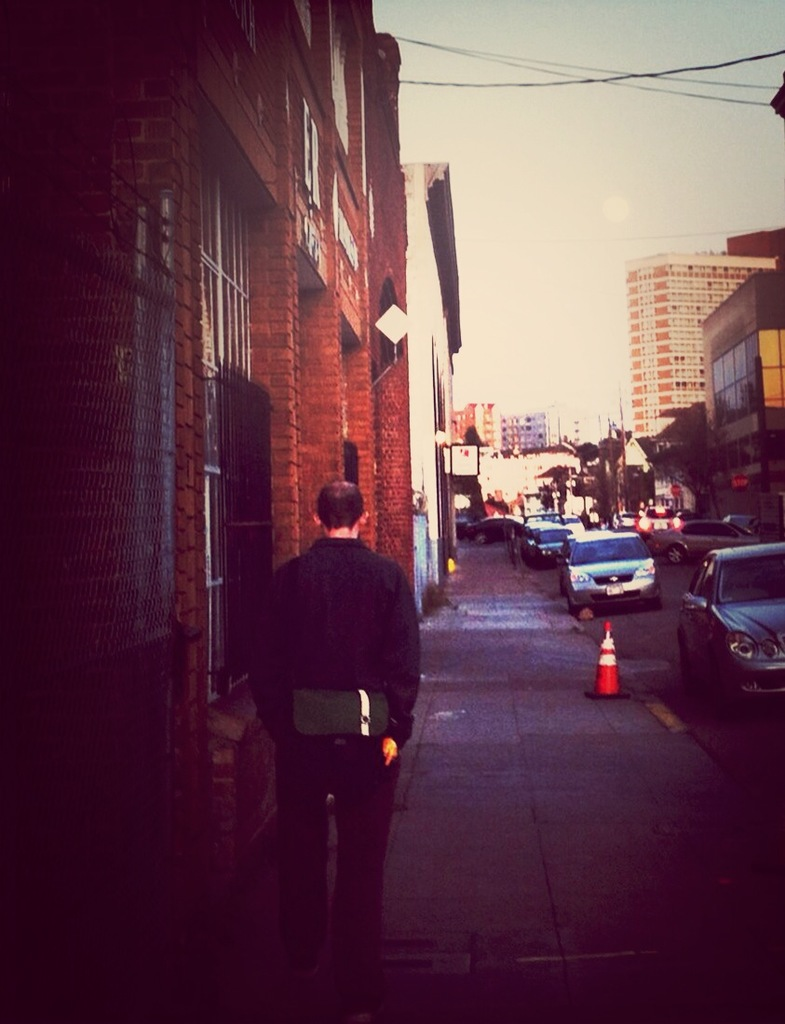Car: (671, 543, 784, 714), (554, 529, 664, 617), (652, 515, 779, 564), (519, 523, 568, 568)
